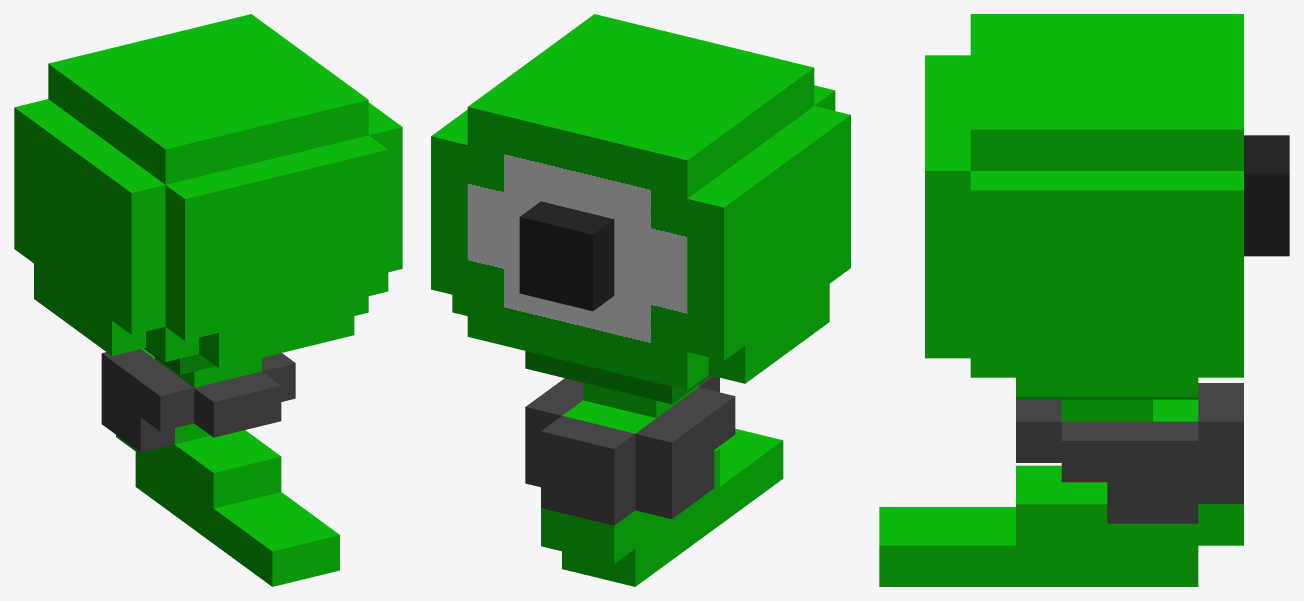
Rendered from alien_eye1c.dae.
3 views of the same model, side by side, from view 1: azimuth 30°, elevation 25°; view 2: azimuth 150°, elevation 25°; view 3: azimuth 270°, elevation 25° (orthographic). The views are drawn at different scales.
Parts seen in each view (by area): view 1: alien_eye1c; view 2: alien_eye1c; view 3: alien_eye1c.
Part boxes in pixels (x1=…): alien_eye1c: x1=14, y1=14, x2=402, y2=586; alien_eye1c: x1=431, y1=14, x2=850, y2=586; alien_eye1c: x1=879, y1=14, x2=1289, y2=586.
Bounding box in the file's own units: 0.8 × 0.9 × 1.2.
